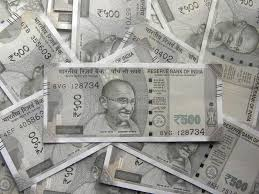fiveHundred: (51, 74, 207, 130)
